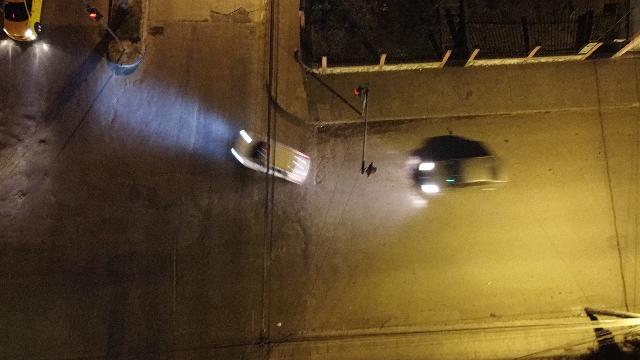Vehiculo: (406, 135, 506, 195), (230, 129, 312, 185), (4, 0, 42, 41)
